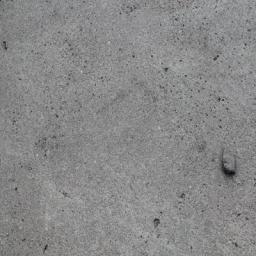FOD: (220, 145, 240, 178)
